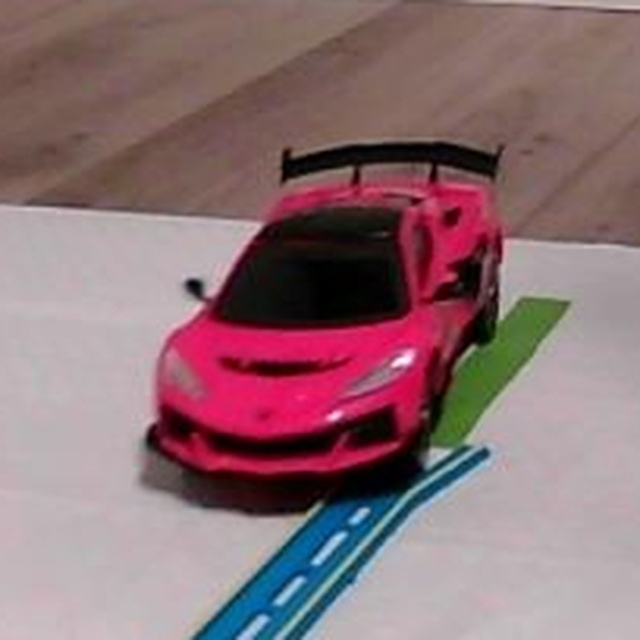tire_rear_driver: (470, 280, 500, 345)
